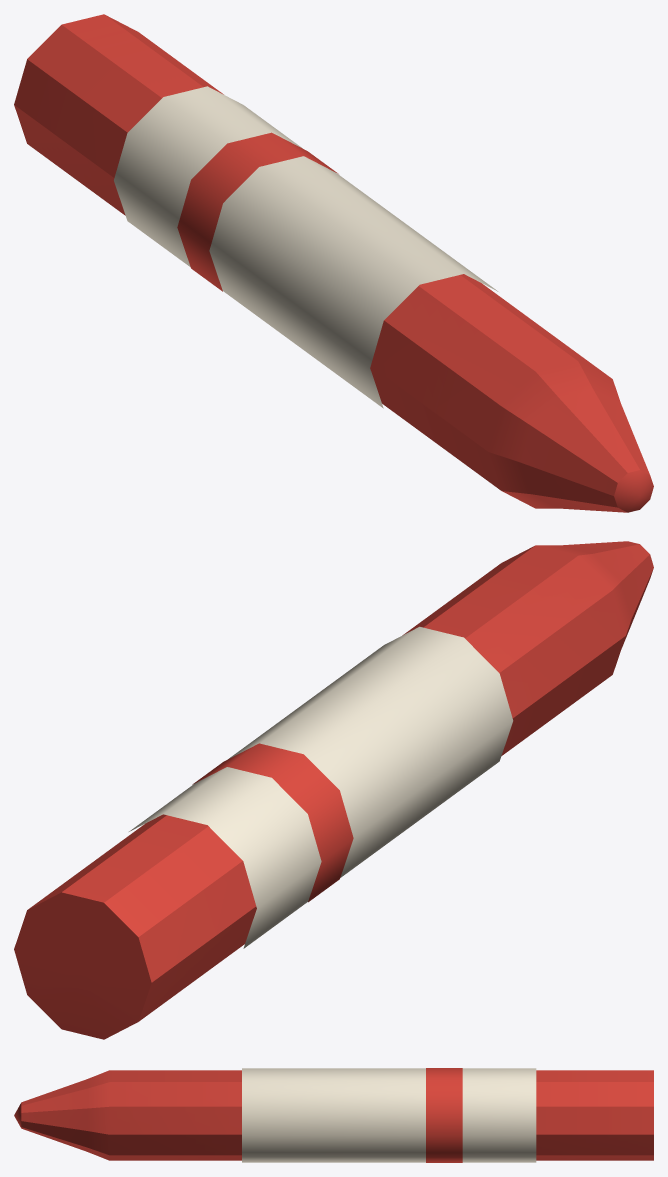
Rendered from den_crayon.glb.
The picture shows the model from 3 angles, top to bottom: view 1: azimuth 30°, elevation 25°; view 2: azimuth 150°, elevation 25°; view 3: azimuth 270°, elevation 25°; orthographic projection. The views are drawn at different scales.
Visible parts, largest first — view 1: den_crayon; view 2: den_crayon; view 3: den_crayon.
Part boxes in pixels (box(x1,y1,x2,y2)): den_crayon: box(14, 14, 653, 512); den_crayon: box(14, 541, 653, 1039); den_crayon: box(14, 1068, 653, 1162).
Size of the model in its own units: 1.3 by 1.24 by 8.7.
